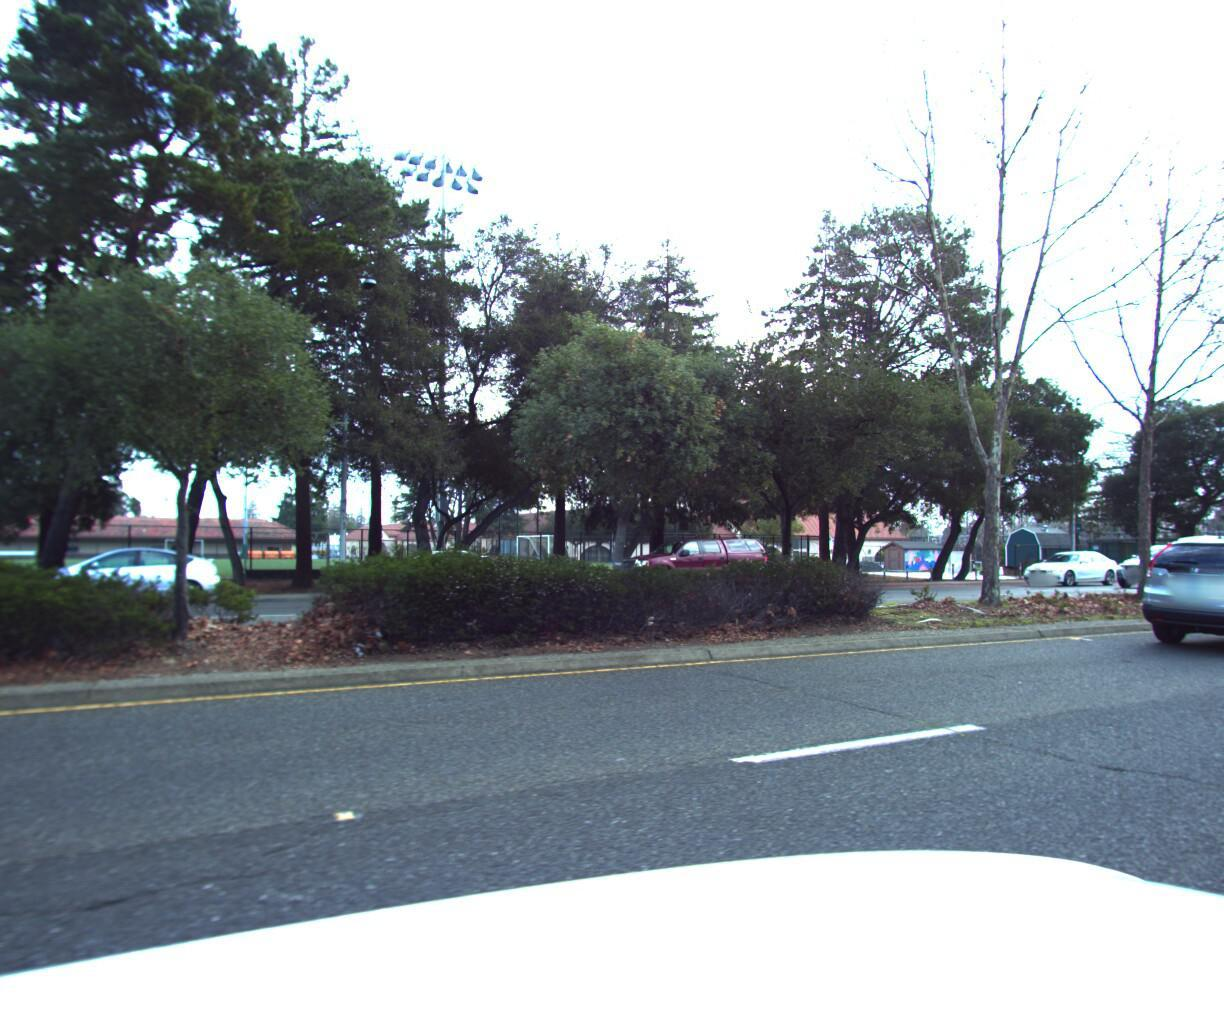car: (25, 542, 227, 611), (1116, 529, 1224, 657), (604, 527, 774, 590), (1104, 538, 1218, 585), (1015, 545, 1117, 584)
